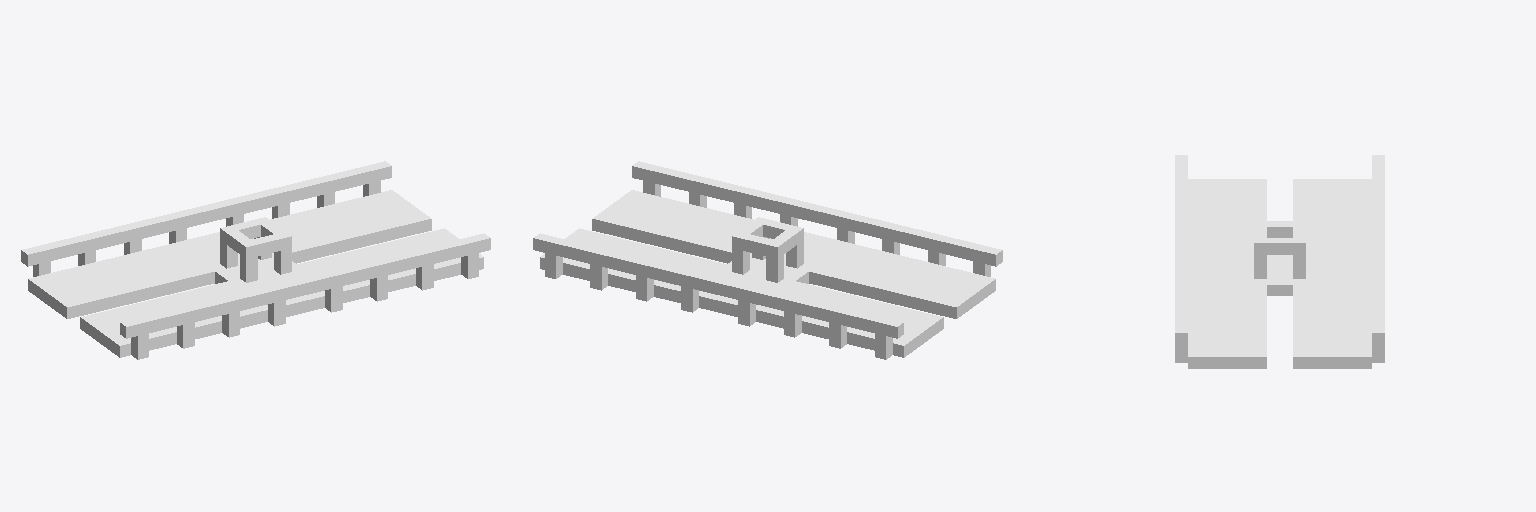
Rendered from roadDirect2.obj.
3 views of the same model, side by side, from view 1: azimuth 30°, elevation 25°; view 2: azimuth 150°, elevation 25°; view 3: azimuth 270°, elevation 25° (orthographic).
Visible parts, largest first — view 1: object 1; view 2: object 1; view 3: object 1.
Part boxes in pixels (x1,y1,x2,y2): object 1: (21, 161, 490, 359); object 1: (533, 161, 1002, 359); object 1: (1175, 155, 1384, 368).
Bounding box in the file's own units: 3.2 × 0.4 × 1.6.